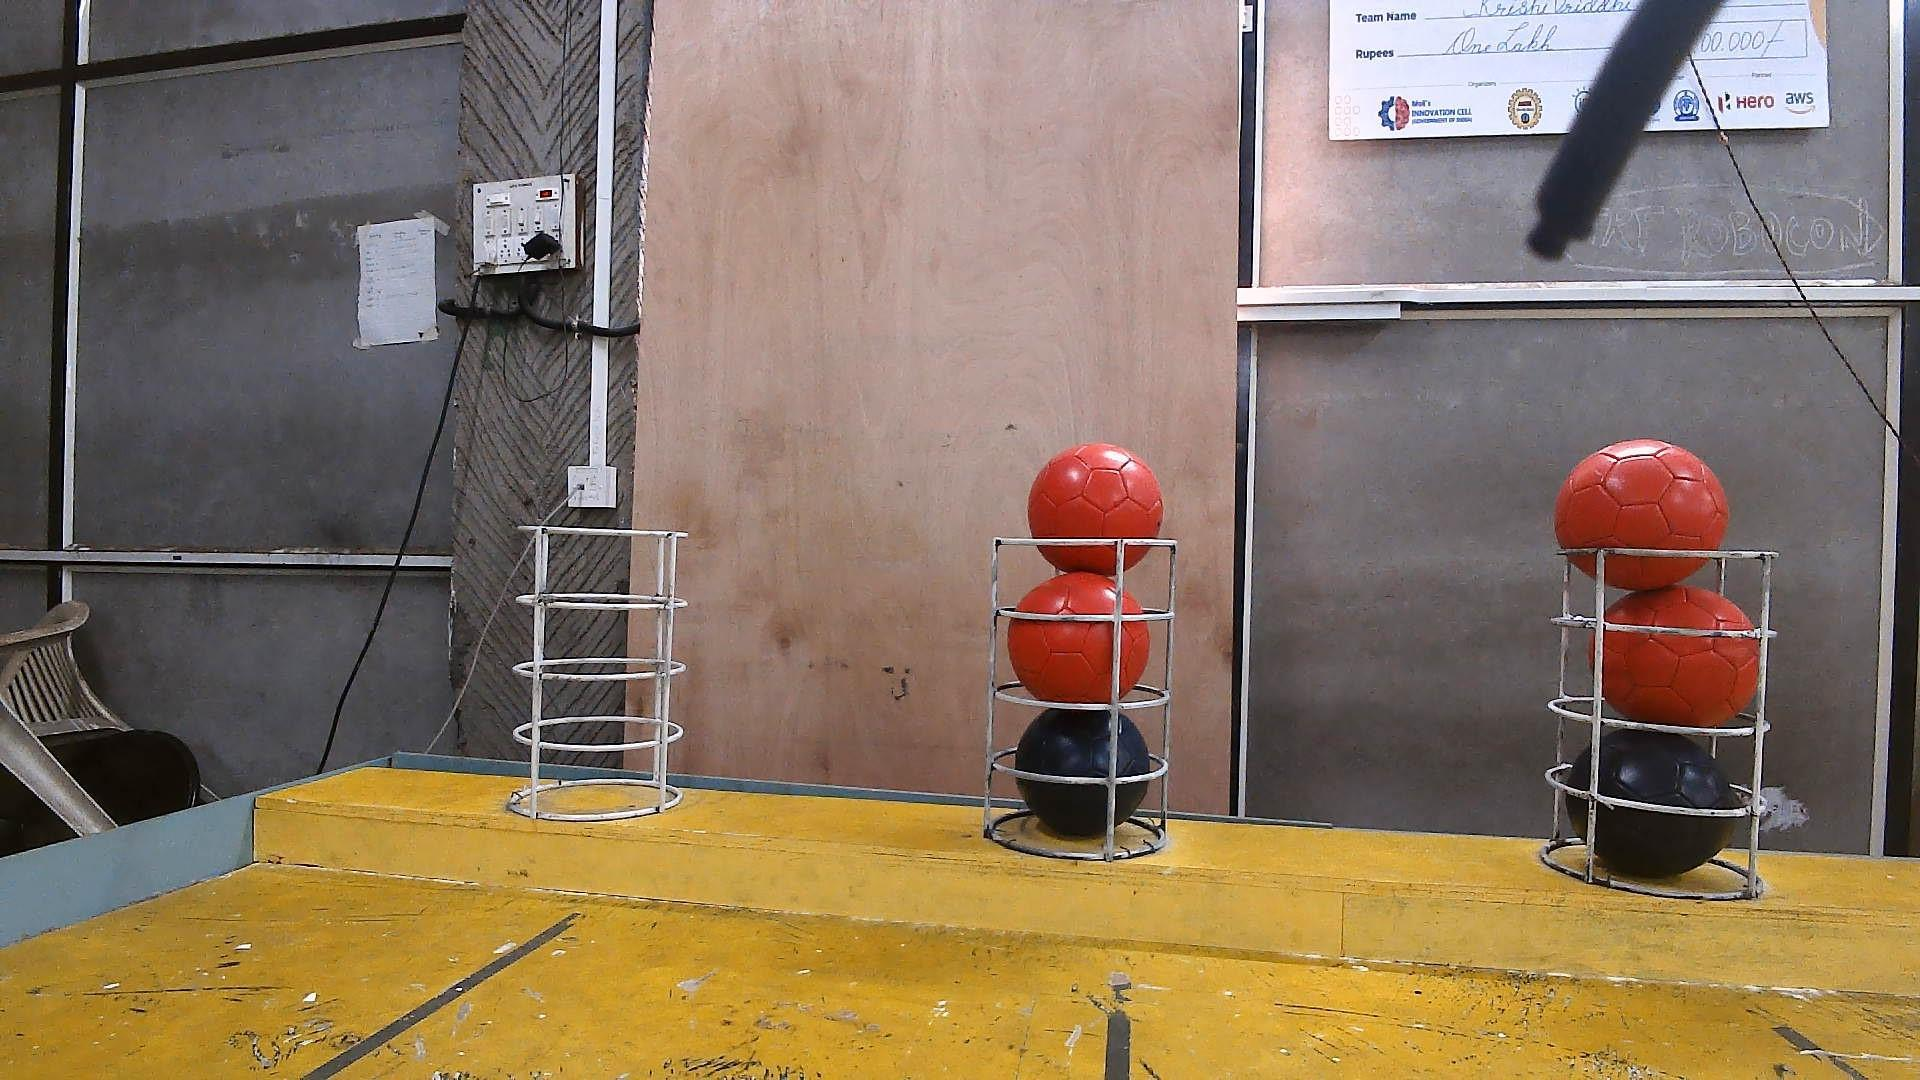dhoka: (1564, 728, 1741, 877), (1013, 708, 1155, 840)
laale: (1552, 439, 1729, 592), (1586, 585, 1763, 728), (1009, 570, 1151, 705), (1027, 443, 1163, 578)
